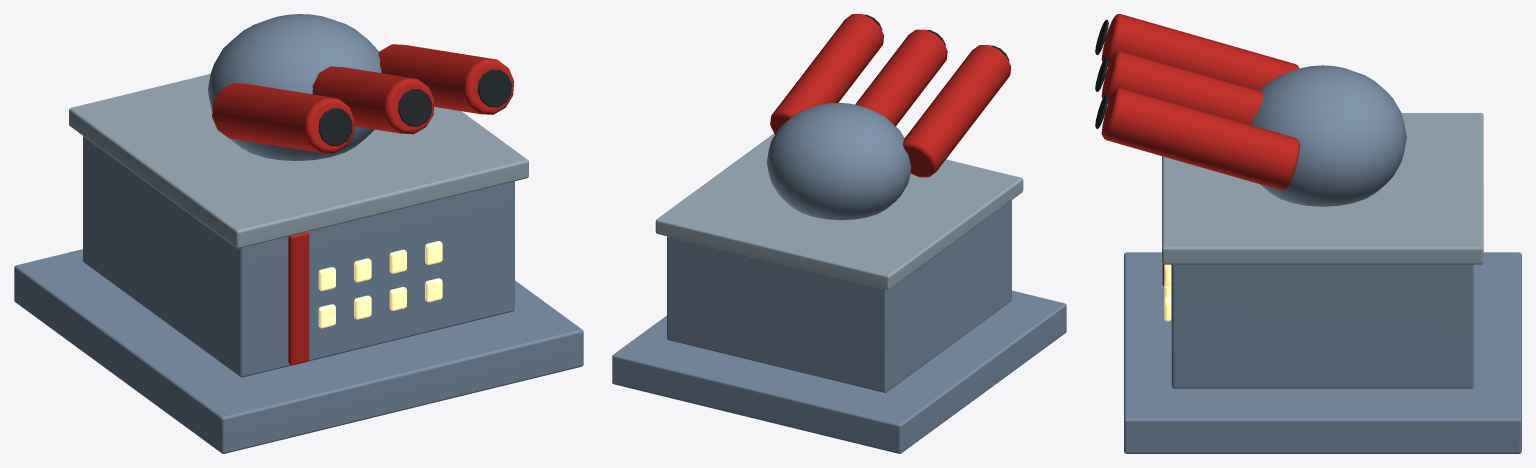
3 views of the same model, side by side, from view 1: azimuth 30°, elevation 25°; view 2: azimuth 150°, elevation 25°; view 3: azimuth 270°, elevation 25° (orthographic). The views are drawn at different scales.
Parts seen in each view (by area): view 1: Modular block storey, Foundation slab, Block roof ledge, Weapon pivot, Weapon barrel, Weapon barrel.002, Weapon barrel.001, Vertical block colour strip, Weapon dark bore.002, Weapon dark bore, Weapon dark bore.001; view 2: Modular block storey, Foundation slab, Block roof ledge, Weapon pivot, Weapon barrel, Weapon barrel.002, Weapon barrel.001; view 3: Foundation slab, Modular block storey, Block roof ledge, Weapon pivot, Weapon barrel.002, Weapon barrel, Weapon barrel.001.
Boxes of the visible parts, x1,y1,x2,y2 form: Modular block storey: (83,136,514,377); Foundation slab: (14,249,583,453); Block roof ledge: (69,49,528,248); Weapon pivot: (207,14,381,160); Weapon barrel: (212,83,354,153); Weapon barrel.002: (378,44,514,114); Weapon barrel.001: (312,66,434,134); Vertical block colour strip: (288,232,309,365); Weapon dark bore.002: (477,69,511,107); Weapon dark bore: (318,108,352,146); Weapon dark bore.001: (398,88,432,126); Modular block storey: (667,200,1011,392); Foundation slab: (612,290,1066,453); Block roof ledge: (655,134,1023,289); Weapon pivot: (766,102,911,220); Weapon barrel: (903,45,1011,177); Weapon barrel.002: (770,14,884,134); Weapon barrel.001: (855,29,947,126); Foundation slab: (1124,252,1521,453); Modular block storey: (1171,264,1473,388); Block roof ledge: (1162,113,1483,264); Weapon pivot: (1251,65,1406,206); Weapon barrel.002: (1101,88,1300,190); Weapon barrel: (1101,14,1299,90); Weapon barrel.001: (1101,51,1263,124).
Size of the model in its own units: 2.04 by 1.8 by 2.19.
